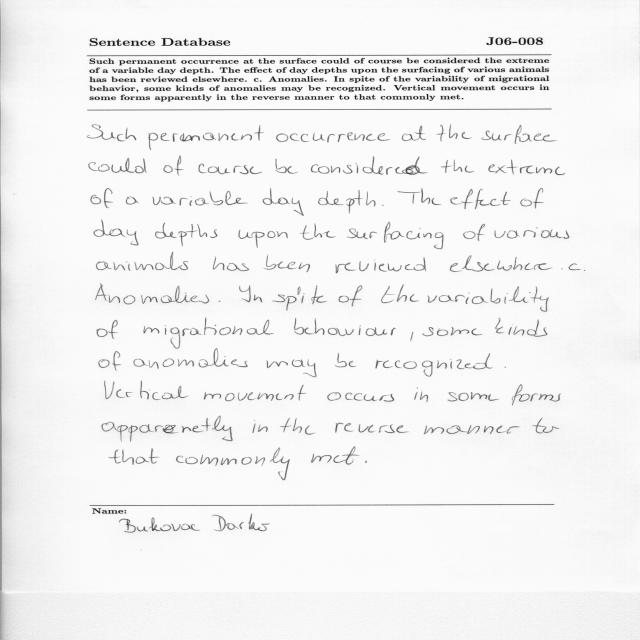word: (144, 318, 274, 349), (176, 448, 290, 480), (102, 416, 233, 442), (427, 286, 549, 312), (149, 125, 264, 150), (347, 222, 444, 249), (133, 349, 248, 369), (96, 284, 209, 304), (311, 156, 428, 175), (294, 318, 396, 336), (450, 255, 553, 272), (97, 252, 188, 271), (204, 385, 307, 401), (375, 359, 465, 377), (105, 381, 188, 400), (335, 258, 426, 274), (152, 191, 248, 206), (272, 285, 327, 311), (156, 223, 218, 246), (482, 125, 557, 144), (318, 190, 376, 213), (276, 132, 390, 143), (450, 189, 511, 209), (262, 188, 304, 216), (488, 160, 565, 175), (94, 220, 139, 245), (512, 384, 561, 405), (495, 318, 547, 337), (238, 230, 288, 248), (495, 227, 570, 239), (267, 360, 317, 378), (89, 158, 147, 173), (109, 448, 160, 465), (424, 425, 520, 434), (311, 447, 359, 465), (88, 125, 137, 142), (264, 255, 310, 273), (398, 188, 442, 205), (335, 423, 409, 433), (381, 285, 419, 304), (198, 164, 262, 175), (327, 392, 394, 402), (436, 124, 472, 141), (300, 223, 336, 240), (280, 418, 315, 435), (422, 327, 483, 336), (448, 392, 500, 402), (213, 258, 249, 272), (339, 286, 363, 307), (521, 188, 544, 208), (465, 353, 492, 370), (532, 418, 560, 434), (91, 188, 113, 208), (99, 351, 121, 371), (441, 160, 474, 173), (163, 156, 184, 176), (239, 286, 263, 303), (97, 320, 118, 339), (463, 224, 485, 241), (402, 126, 426, 141), (275, 159, 298, 174), (335, 353, 357, 367), (414, 388, 428, 403), (253, 424, 268, 434), (126, 197, 139, 205), (568, 264, 581, 271), (411, 332, 414, 341), (365, 460, 367, 463), (382, 205, 384, 206), (561, 269, 563, 270), (219, 301, 221, 302), (584, 270, 585, 271)
